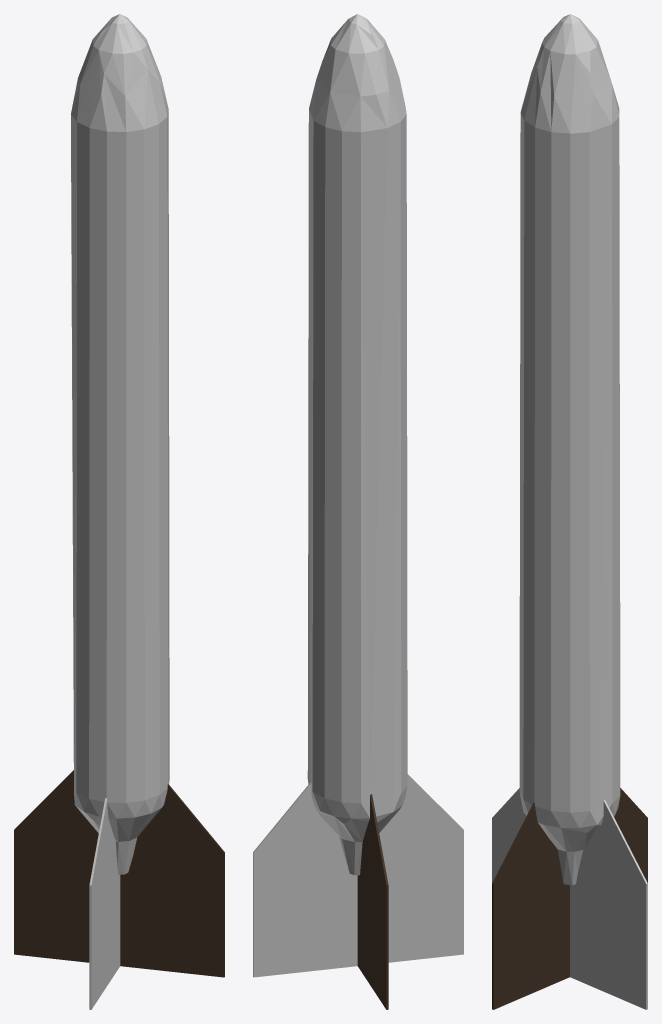
Rendered from bf109Abomb_wtf.obj.
3 views of the same model, side by side, from view 1: azimuth 30°, elevation 25°; view 2: azimuth 150°, elevation 25°; view 3: azimuth 270°, elevation 25° (orthographic).
Parts seen in each view (by area): view 1: group4, group2, group3; view 2: group4, group3, group2; view 3: group4, group3, group2.
Boxes of the visible parts, x1=… form: group4: x1=71, y1=14, x2=169, y2=874; group2: x1=14, y1=770, x2=224, y2=977; group3: x1=89, y1=798, x2=120, y2=1009; group4: x1=307, y1=14, x2=407, y2=875; group3: x1=253, y1=774, x2=463, y2=977; group2: x1=357, y1=794, x2=388, y2=1009; group4: x1=519, y1=14, x2=620, y2=885; group3: x1=492, y1=788, x2=647, y2=1009; group2: x1=492, y1=788, x2=647, y2=1009.
Bounding box in the file's own units: 98.4 × 660 × 96.76.
